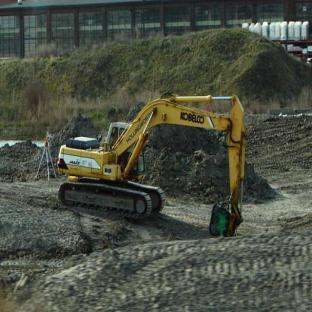ExcavationMachinery: (47, 98, 281, 236)
